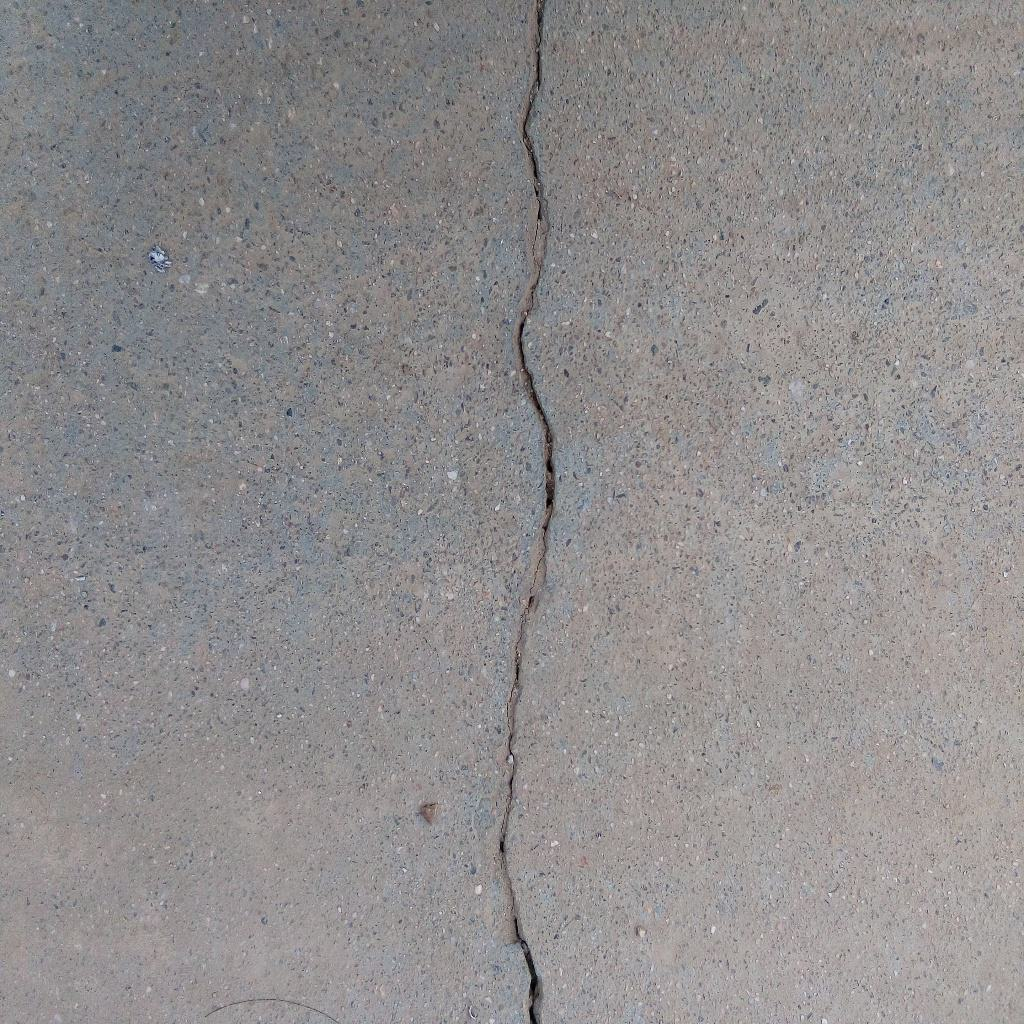Crack: (498, 1, 559, 1024)
